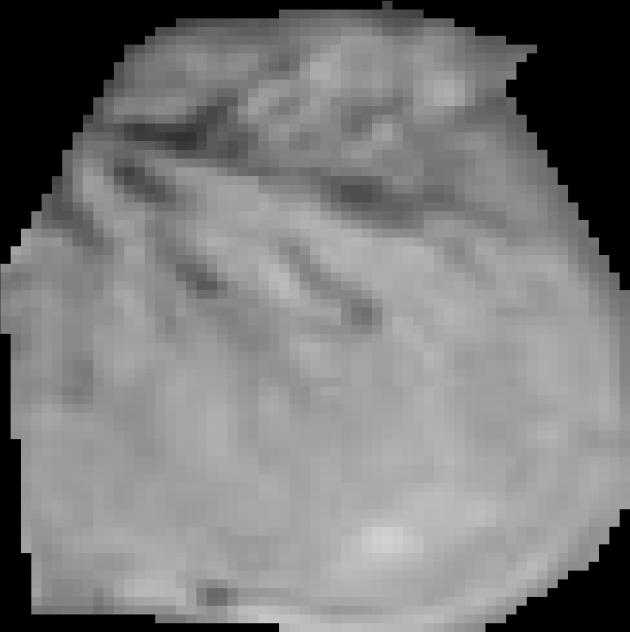tumor_good_chance: (0, 1, 630, 632)
